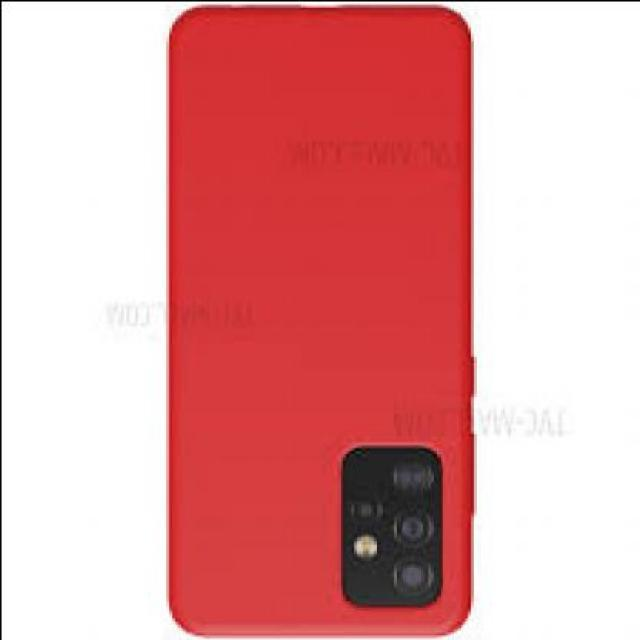phone: (168, 3, 472, 631)
